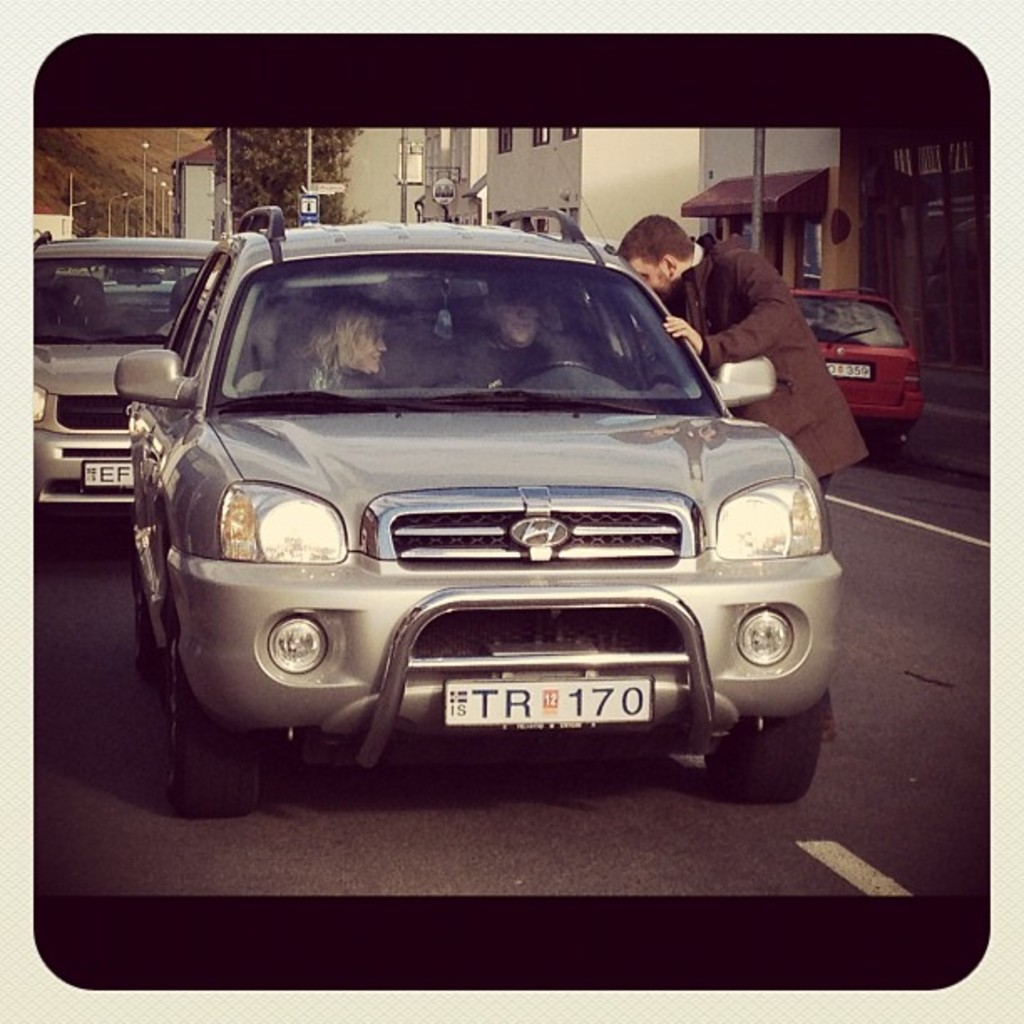Person: (457, 283, 601, 387), (259, 304, 386, 390)
